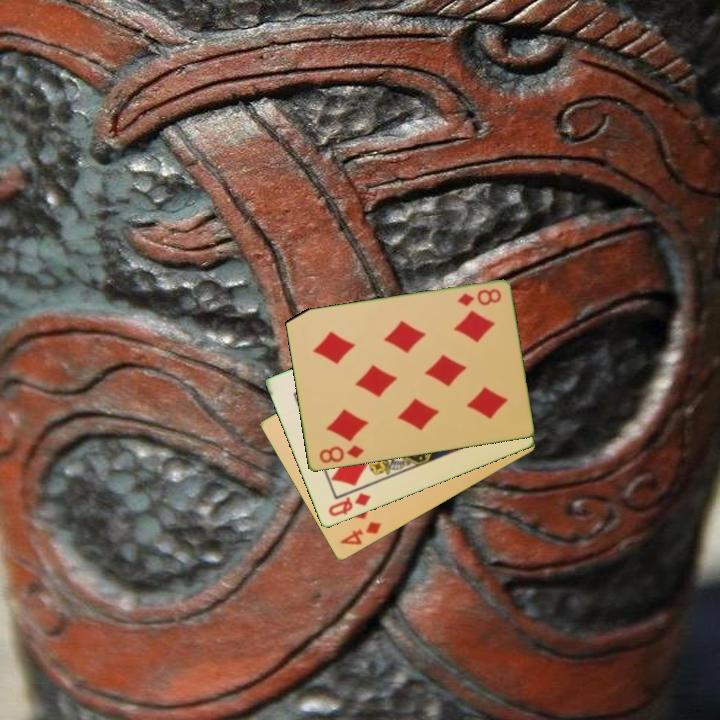4d: (336, 518, 385, 548)
8d: (316, 442, 367, 467), (454, 285, 504, 310)
Qd: (324, 490, 374, 520)
